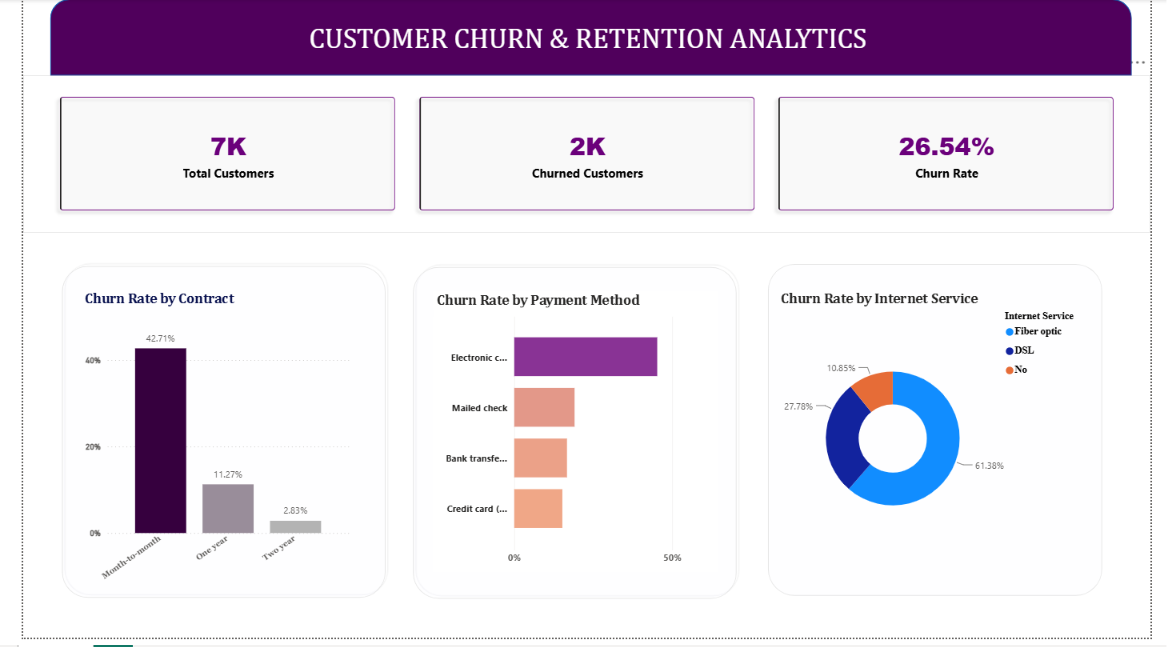

What the dashboard file says about the page in this screenshot:
{"tool":"powerbi","page":{"name":"Page 1","canvas":[1500,850],"ordinal":0},"visuals":[{"type":"cardVisual","fields":{"Data":["telecom-data-set.Total Customers","telecom-data-set.Churned Customers","telecom-data-set.Churn Rate"]},"box":[0,101.6,1500,209.4],"z":0},{"type":"shape","box":[46.9,350,440.6,451.6],"z":1000},{"type":"shape","box":[35.9,0,1439.1,101.6],"z":2000},{"type":"textbox","box":[318.8,25,864.1,53.1],"z":3000},{"type":"shape","box":[514.1,351.6,440.6,451.6],"z":4000},{"type":"shape","box":[985.9,346.9,454.7,451.6],"z":5000},{"type":"clusteredColumnChart","fields":{"Y":["telecom-data-set.Churn Rate"],"Category":["telecom-data-set.Contract"]},"box":[76.6,387.5,364.1,395.3],"z":6000},{"type":"clusteredBarChart","title":"Churn Rate by Payment Method","fields":{"Category":["telecom-data-set.PaymentMethod"],"Y":["telecom-data-set.Churn Rate"]},"box":[545.3,389.1,378.1,373.4],"z":7000},{"type":"donutChart","title":"Churn Rate by Internet Service","fields":{"Category":["telecom-data-set.InternetService"],"Y":["telecom-data-set.Churn Rate"]},"box":[1003.1,387.5,421.9,373.4],"z":8000}]}

Visuals, with their boxes in screenshot pixels (x1, y1, x2, y2), scaled from the page's 1500x850 canvas onto the 1167x647 screenshot:
cardVisual - telecom-data-set.Total Customers x telecom-data-set.Churned Customers: [0, 77, 1166, 237]
shape: [36, 266, 379, 610]
shape: [28, 0, 1148, 77]
textbox: [248, 19, 920, 59]
shape: [400, 268, 743, 611]
shape: [767, 264, 1121, 608]
clusteredColumnChart - telecom-data-set.Churn Rate x telecom-data-set.Contract: [60, 295, 343, 596]
"Churn Rate by Payment Method" clusteredBarChart: [424, 296, 718, 580]
"Churn Rate by Internet Service" donutChart: [780, 295, 1109, 579]
